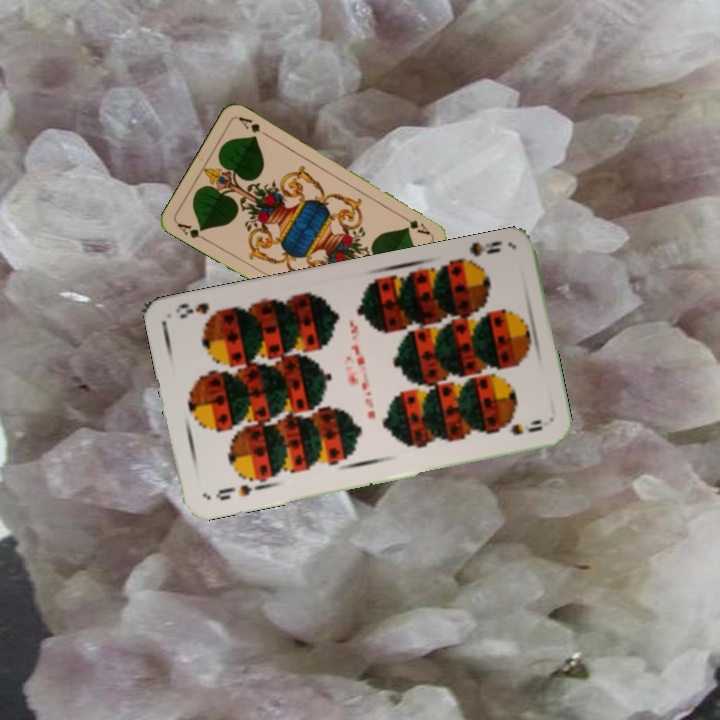GA: (396, 211, 433, 238), (173, 219, 210, 244)
S9: (453, 236, 505, 271), (211, 480, 254, 503)
